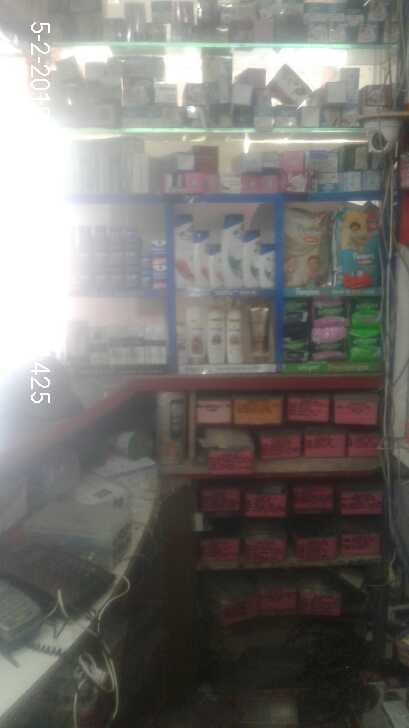vicks: (64, 222, 171, 299)
